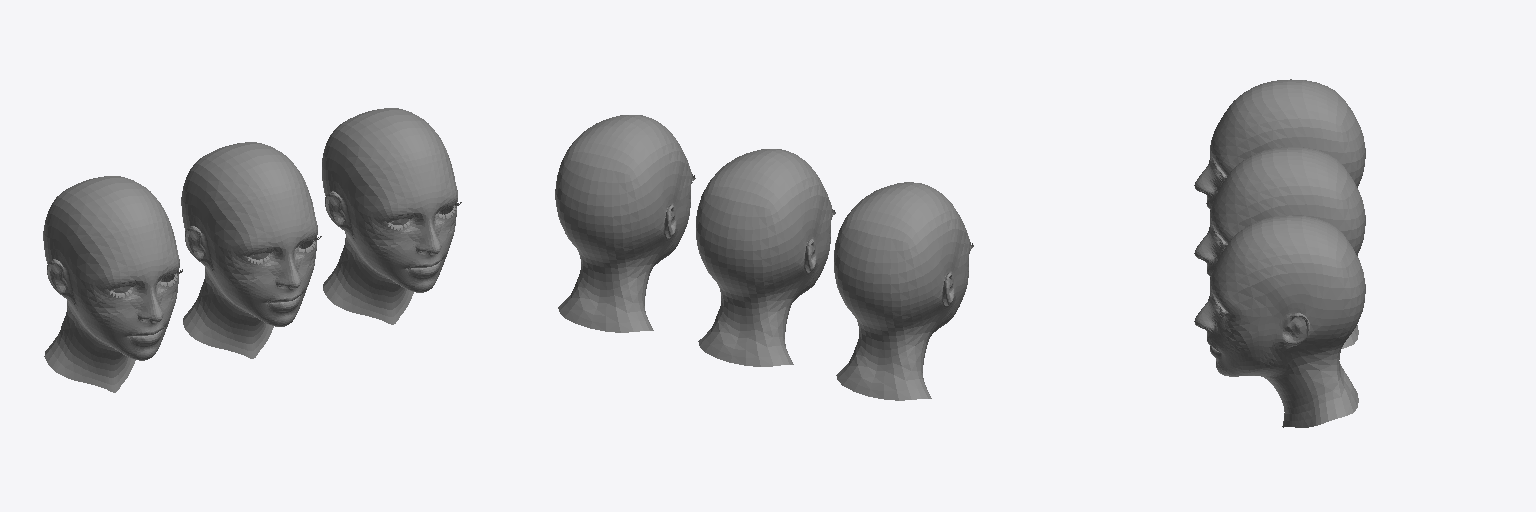
File: UrsulaHeadMorphs.obj
The picture shows the model from 3 angles: view 1: azimuth 30°, elevation 25°; view 2: azimuth 150°, elevation 25°; view 3: azimuth 270°, elevation 25°; orthographic projection.
Visible parts, largest first — view 1: Plane_011, Plane_012, Plane_010; view 2: Plane_012, Plane_010, Plane_011; view 3: Plane_010, Plane_011, Plane_012.
Boxes of the visible parts, x1=… form: Plane_011: x1=181, y1=142, x2=321, y2=358; Plane_012: x1=43, y1=176, x2=182, y2=392; Plane_010: x1=322, y1=108, x2=461, y2=324; Plane_012: x1=834, y1=182, x2=973, y2=400; Plane_010: x1=555, y1=115, x2=695, y2=332; Plane_011: x1=696, y1=149, x2=835, y2=366; Plane_010: x1=1194, y1=215, x2=1365, y2=427; Plane_011: x1=1194, y1=147, x2=1365, y2=348; Plane_012: x1=1194, y1=79, x2=1365, y2=211.
Bounding box in the file's own units: 24.72 × 12.58 × 9.43.